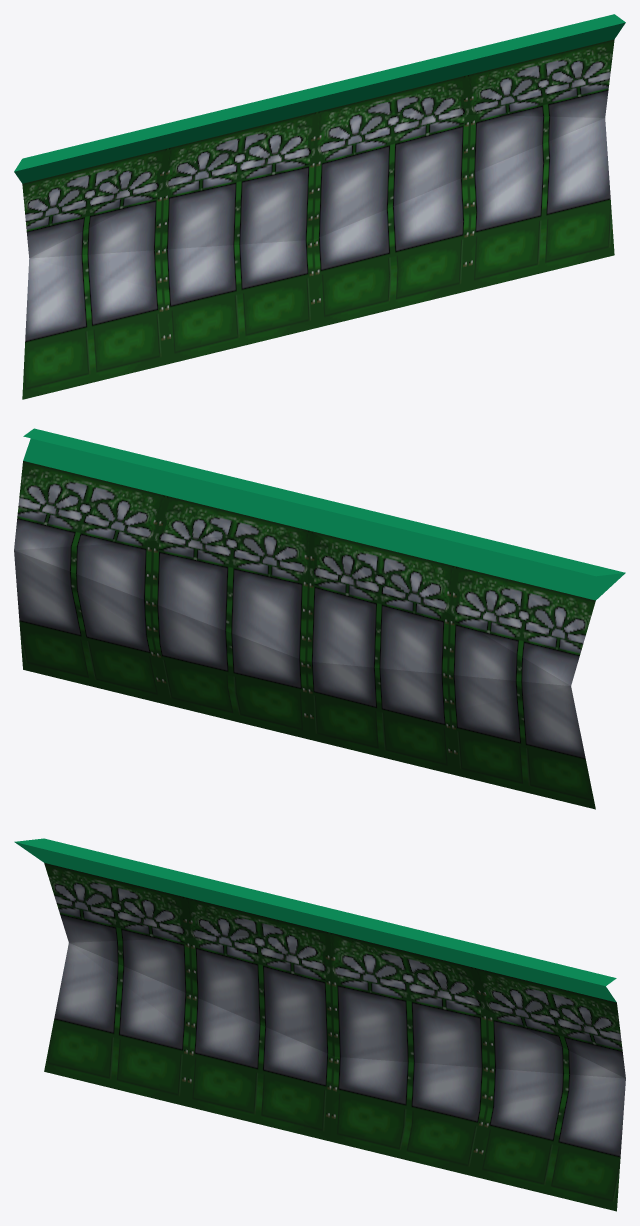
The model's file is W_A2l_xxxx [GrünesMetall]_255.glb.
3 renders of one model, top to bottom at view 1: azimuth 30°, elevation 25°; view 2: azimuth 150°, elevation 25°; view 3: azimuth 330°, elevation 25°, orthographic. The views are drawn at different scales.
Visible parts, largest first — view 1: polySurfaceShape787, polySurfaceShape1065; view 2: polySurfaceShape787, polySurfaceShape1065; view 3: polySurfaceShape787, polySurfaceShape1065.
Boxes of the visible parts, bbox=[...] form: polySurfaceShape787: bbox=[22, 39, 614, 399]; polySurfaceShape1065: bbox=[14, 14, 625, 183]; polySurfaceShape787: bbox=[14, 461, 595, 809]; polySurfaceShape1065: bbox=[23, 428, 625, 600]; polySurfaceShape787: bbox=[44, 863, 625, 1211]; polySurfaceShape1065: bbox=[14, 838, 616, 1002].
Bounding box in the file's own units: 1.03 × 0.3891 × 0.0607.
2 materials, 1 textured.
